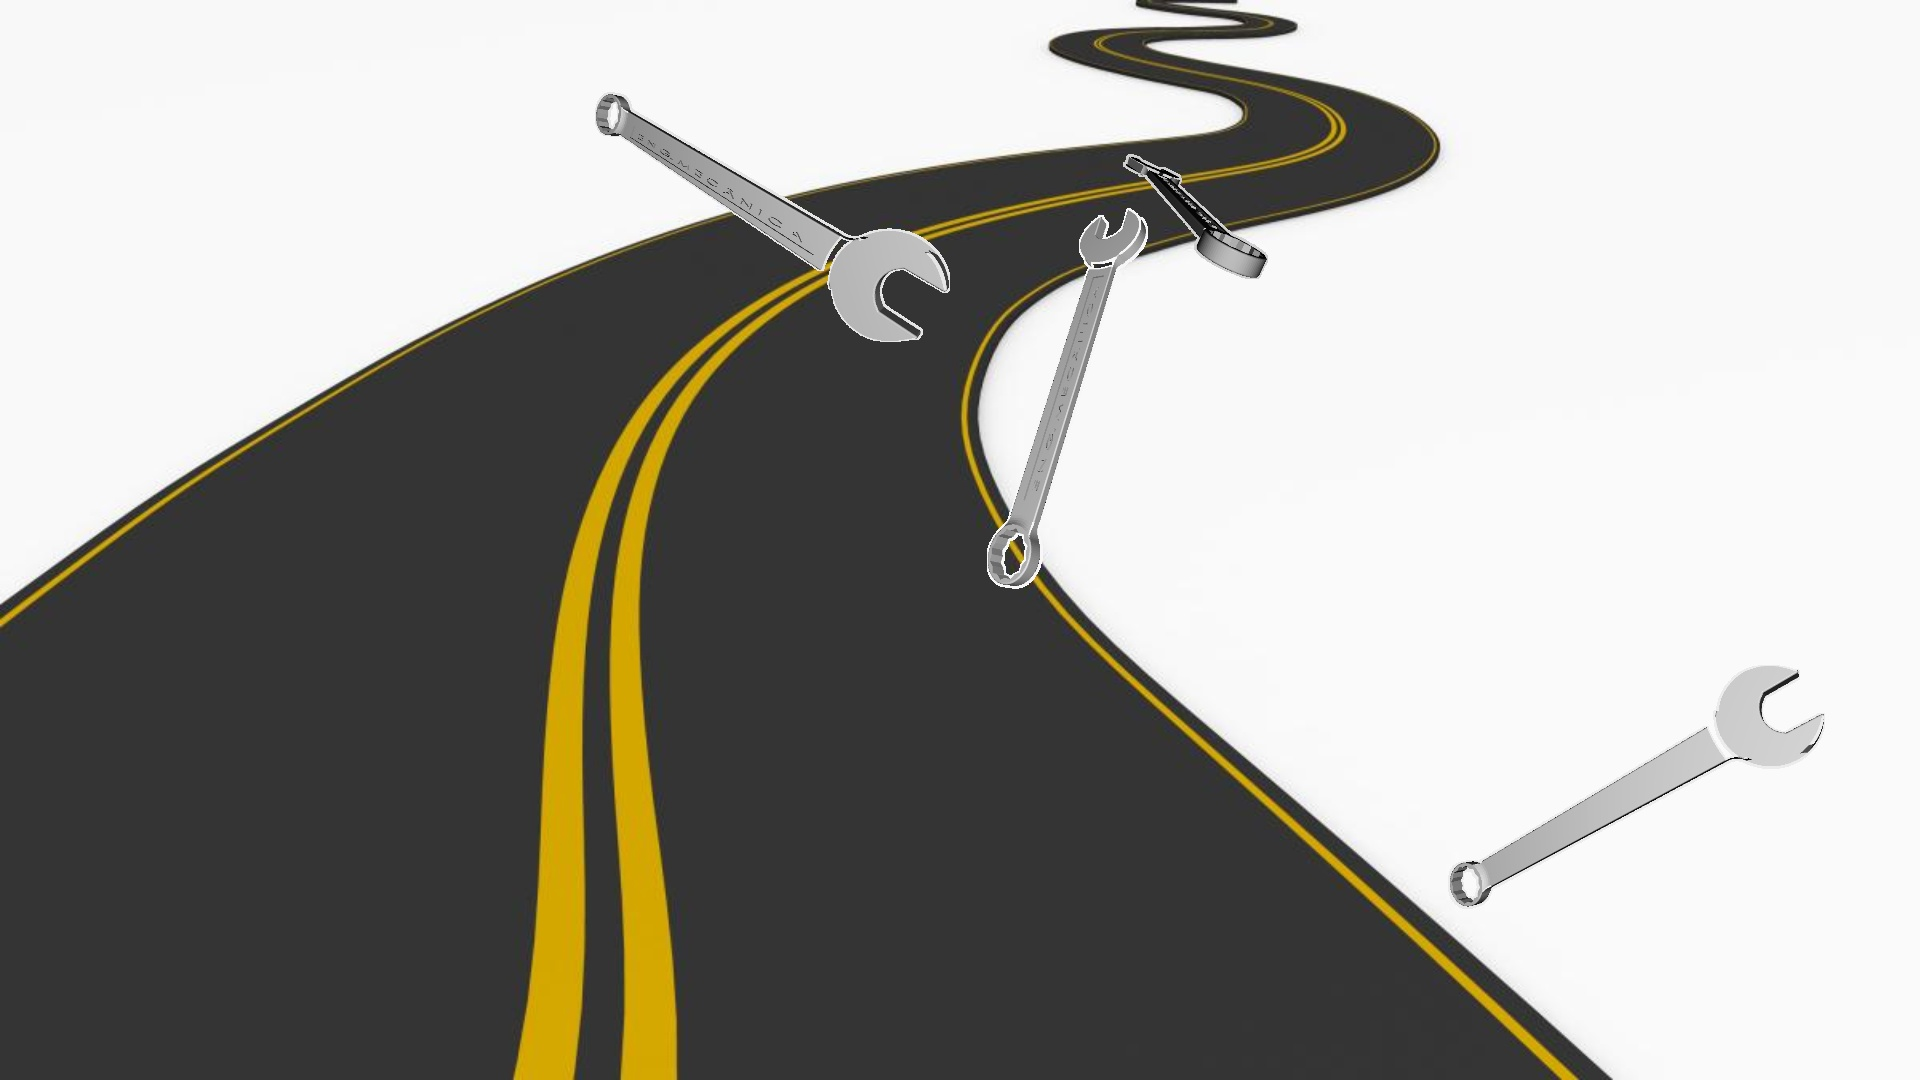Mixed Key: (1448, 665, 1824, 909), (595, 92, 949, 342), (986, 208, 1147, 588), (1124, 154, 1267, 278)
